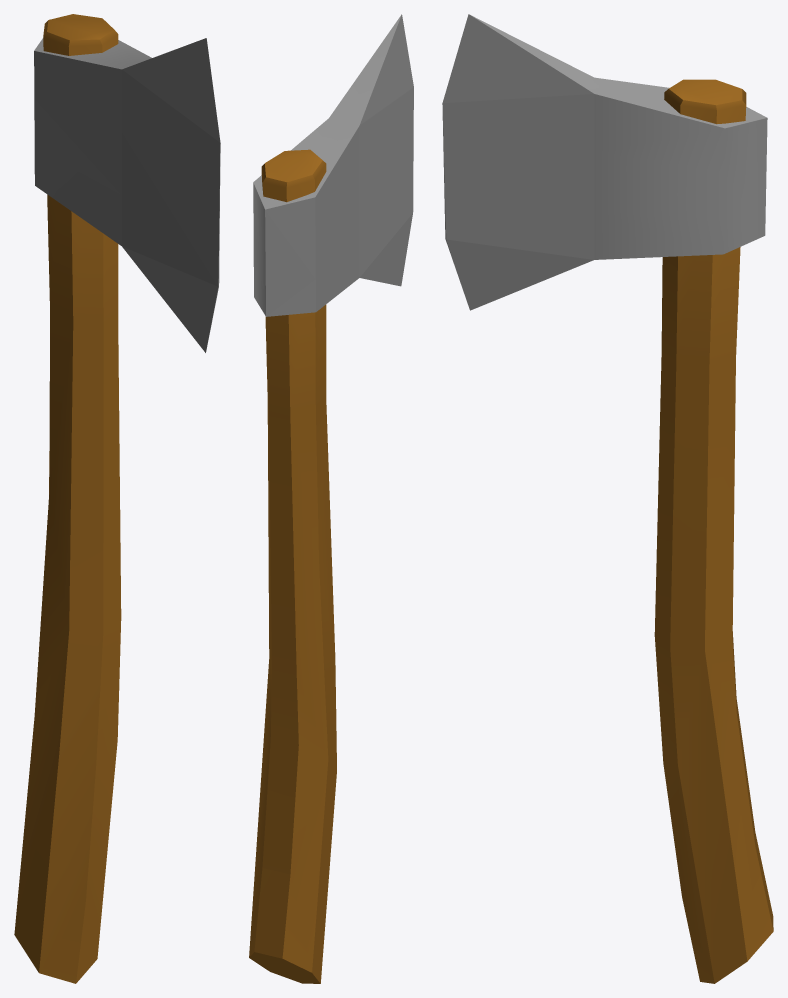
The model's file is Axe 1.fbx.
3 renders of one model, left to right at view 1: azimuth 30°, elevation 25°; view 2: azimuth 150°, elevation 25°; view 3: azimuth 270°, elevation 25°, orthographic. The views are drawn at different scales.
Visible parts, largest first — view 1: Axehead; view 2: Axehead; view 3: Axehead.
Boxes of the visible parts, x1=… form: Axehead: x1=14, y1=14, x2=220, y2=983; Axehead: x1=249, y1=14, x2=413, y2=983; Axehead: x1=442, y1=14, x2=773, y2=983.
Size of the model in its own units: 6.38 by 78.88 by 24.37.
